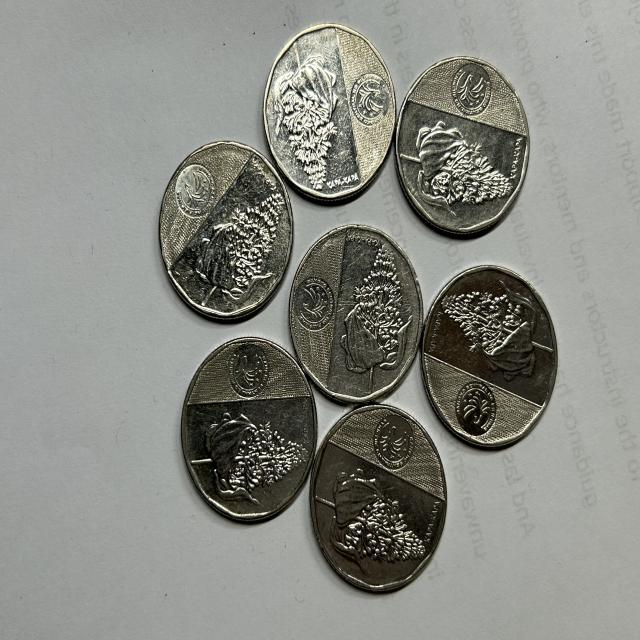10_New_Back: (401, 105, 509, 232), (274, 44, 363, 197), (190, 401, 306, 508), (439, 272, 558, 371), (322, 452, 416, 577), (194, 177, 286, 294), (343, 226, 406, 382)
